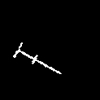double_crochet: (13, 43, 60, 73)
